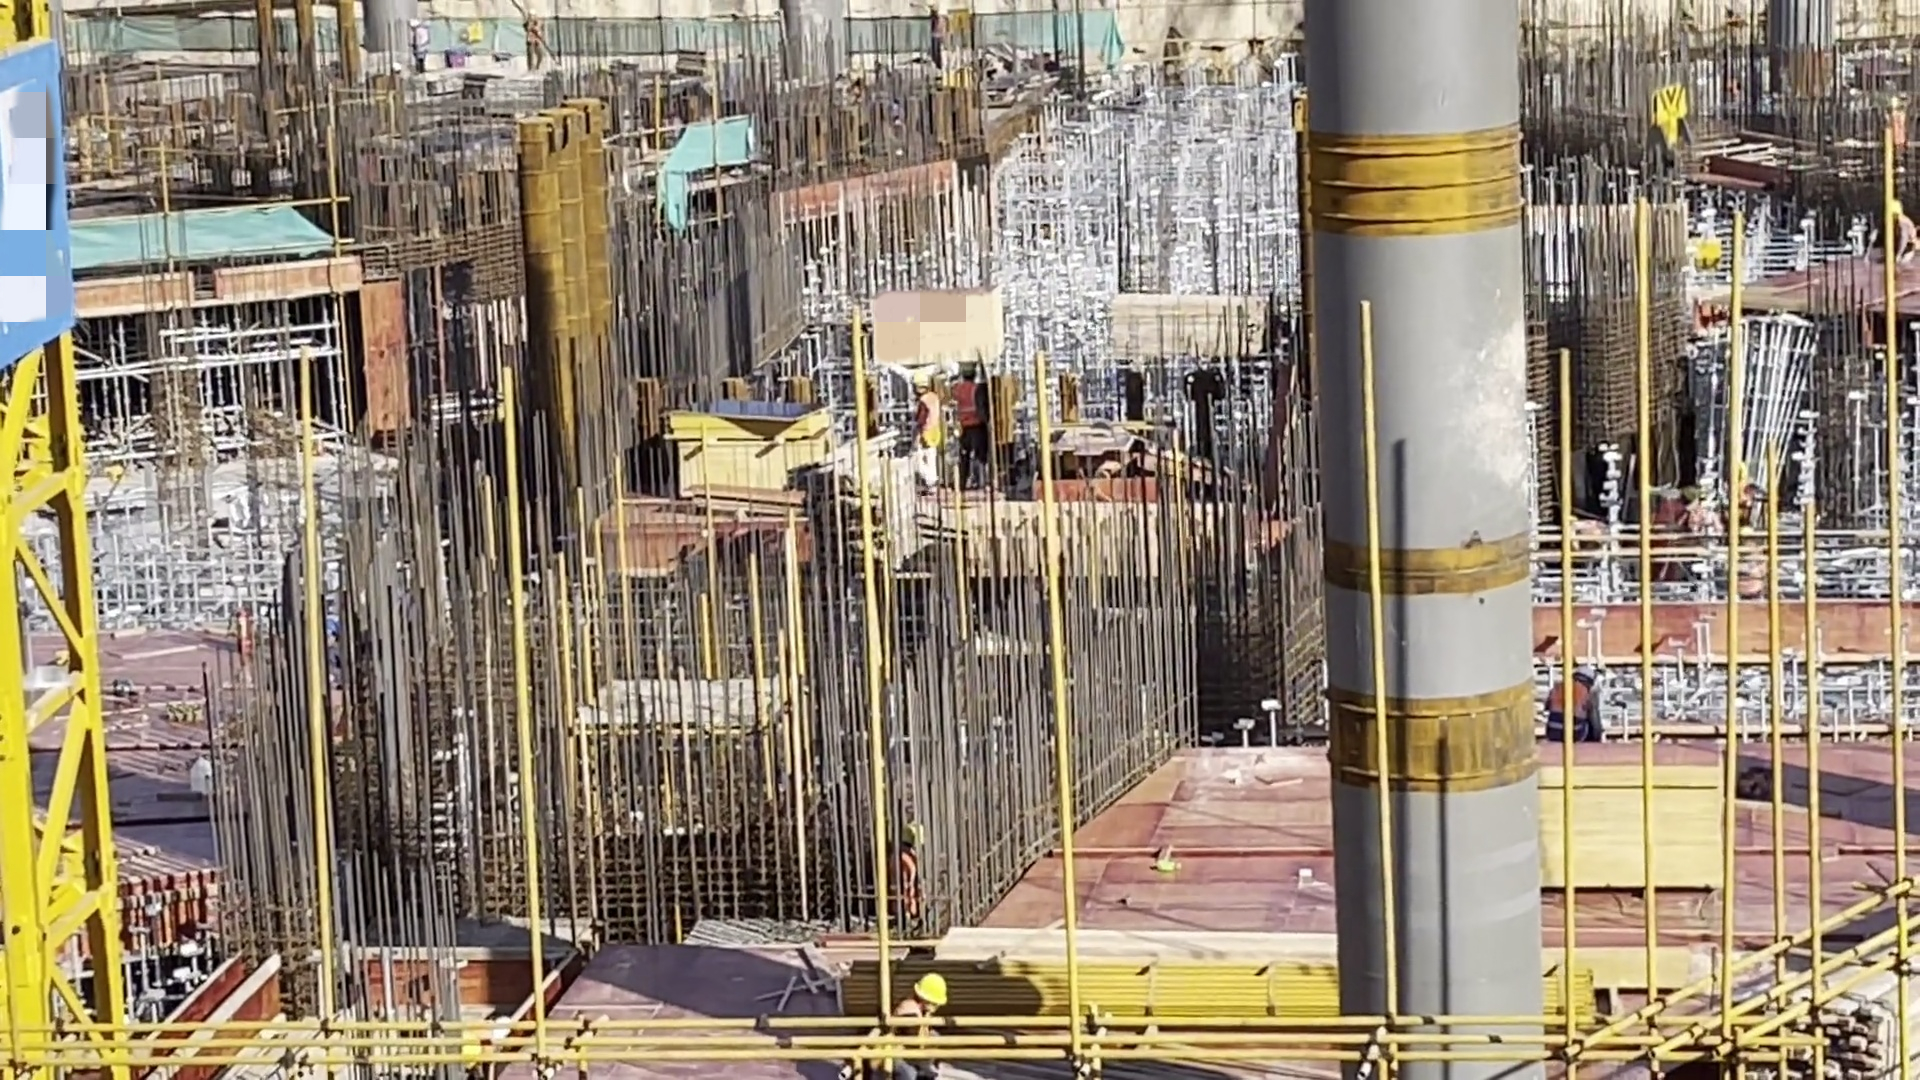helmet: (1658, 491, 1701, 512), (919, 974, 953, 1001), (910, 373, 936, 402), (904, 824, 930, 847), (1574, 663, 1601, 679), (960, 352, 979, 372), (1736, 477, 1755, 495), (1886, 203, 1896, 224), (410, 20, 421, 30), (526, 9, 537, 17)
person: (888, 961, 941, 1080), (881, 810, 929, 938), (953, 346, 1001, 471), (1539, 658, 1591, 735), (908, 360, 943, 460), (1880, 199, 1917, 270), (1738, 516, 1769, 600), (1665, 485, 1704, 534), (519, 6, 546, 70), (406, 18, 434, 61), (1729, 471, 1762, 496)
vest: (871, 1004, 934, 1062), (913, 387, 953, 444), (1742, 541, 1770, 605), (901, 859, 929, 912), (958, 379, 991, 422), (1554, 682, 1591, 715), (1887, 222, 1907, 262), (1656, 504, 1683, 534), (1747, 499, 1770, 533), (522, 17, 543, 48), (410, 27, 424, 58)
